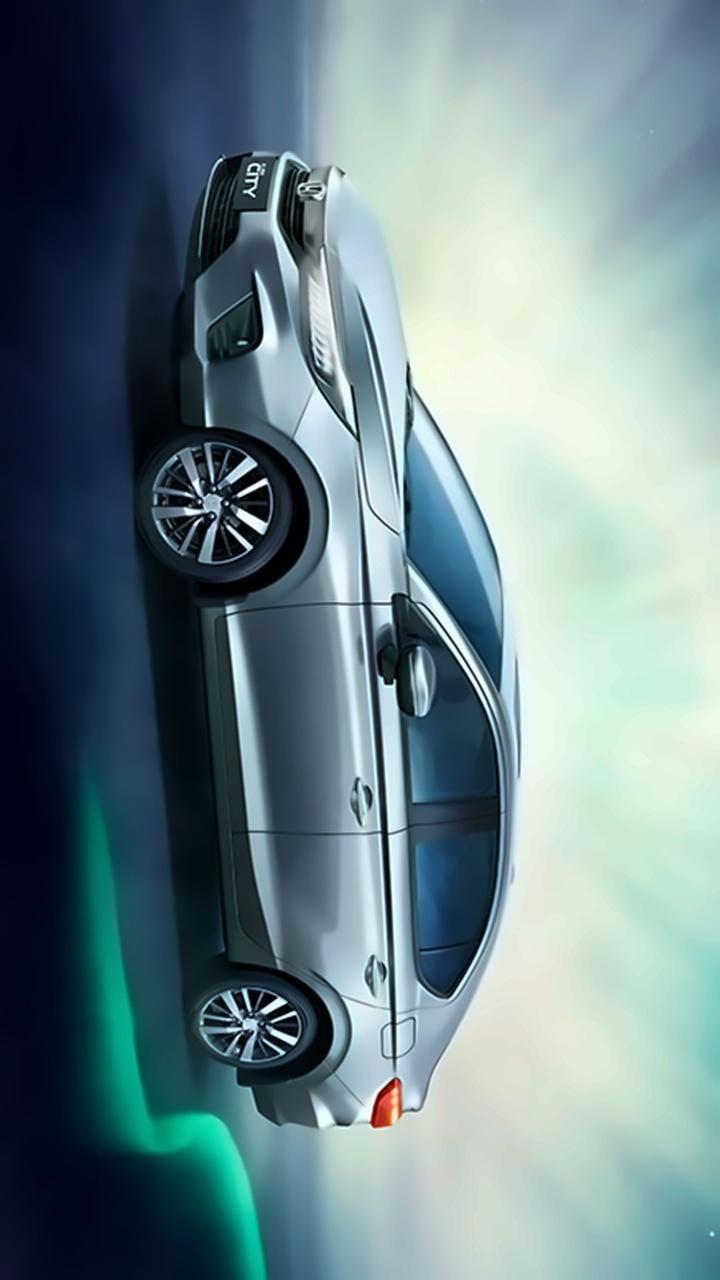Car hood: (320, 168, 434, 540)
Fender - -F-L-: (175, 386, 450, 622)
Fender - -R-L-: (260, 944, 465, 1130)
Front bumper: (174, 140, 340, 474)
Headlight - -L-: (290, 250, 358, 431)
Passenger-s door - -F-L-: (204, 586, 539, 851)
Passenger-s door - -R-L-: (194, 800, 546, 1018)
Rear light - -L-: (362, 1076, 412, 1130)
Side bumper - -L-: (150, 576, 308, 986)
Side mirror - -L-: (366, 617, 445, 714)
